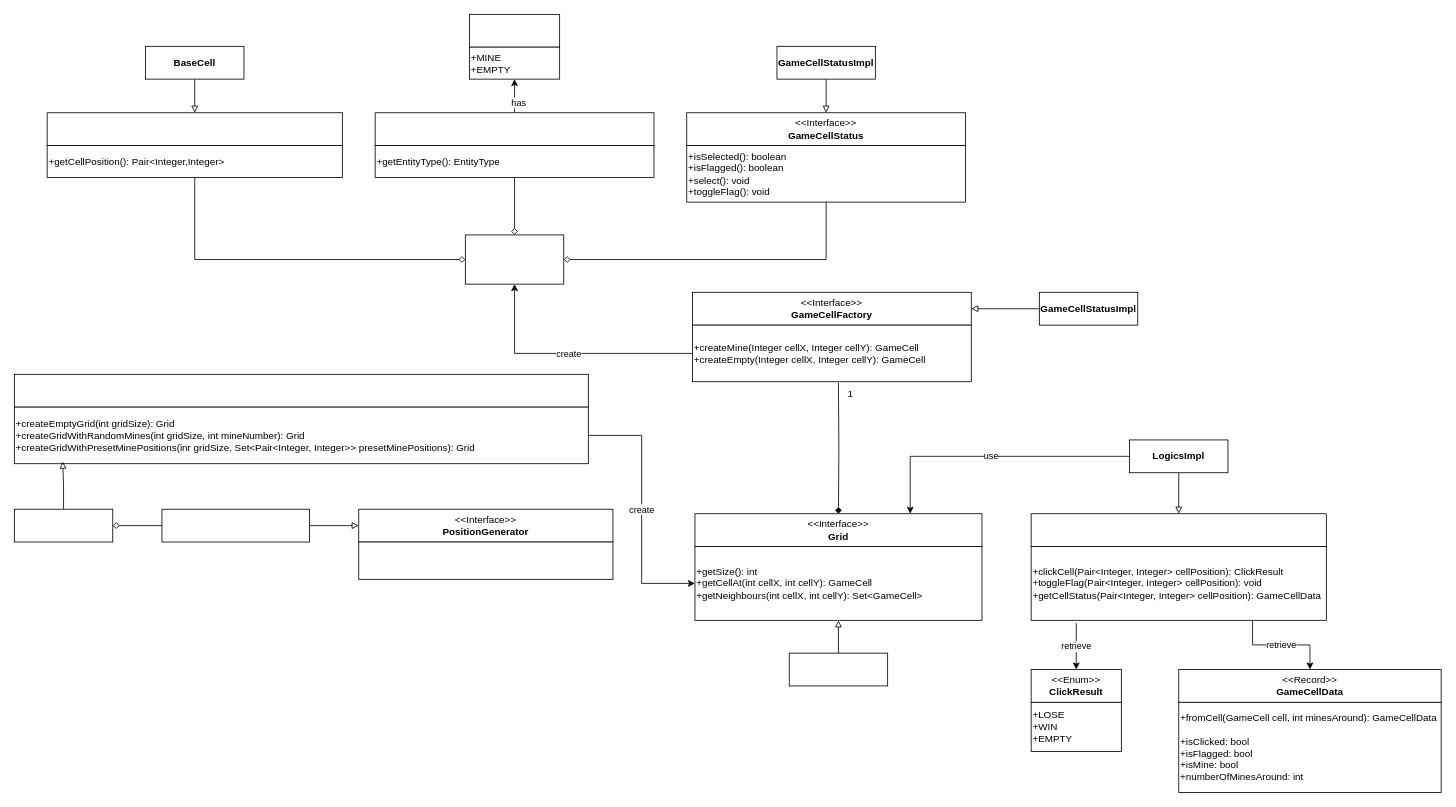
The diagram is 1456 pixels wide and 807 high, and some of its shapes have lost their labels. Each missing label, with the box of its shape:
+generatePosition(int maxIndex): Pair<Integer, Integer>: (358, 541, 613, 579)
<<Enum>> EntityType: (469, 14, 560, 47)
<<Interface>> Cell: (46, 112, 342, 146)
<<Interface>> Entity: (374, 112, 654, 146)
<<Interface>> GridFactory: (14, 374, 588, 407)
<<Interface>> Logics: (1030, 513, 1326, 547)
BoardFactoryImpl: (14, 508, 113, 542)
GameCell: (465, 234, 564, 284)
GridImpl: (788, 652, 888, 686)
RandomPositionGenerator: (161, 508, 310, 542)
